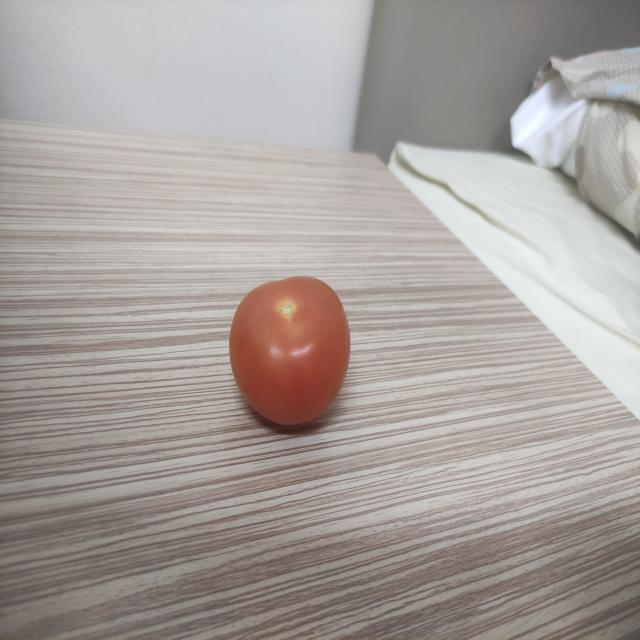sari: (228, 262, 366, 446)
